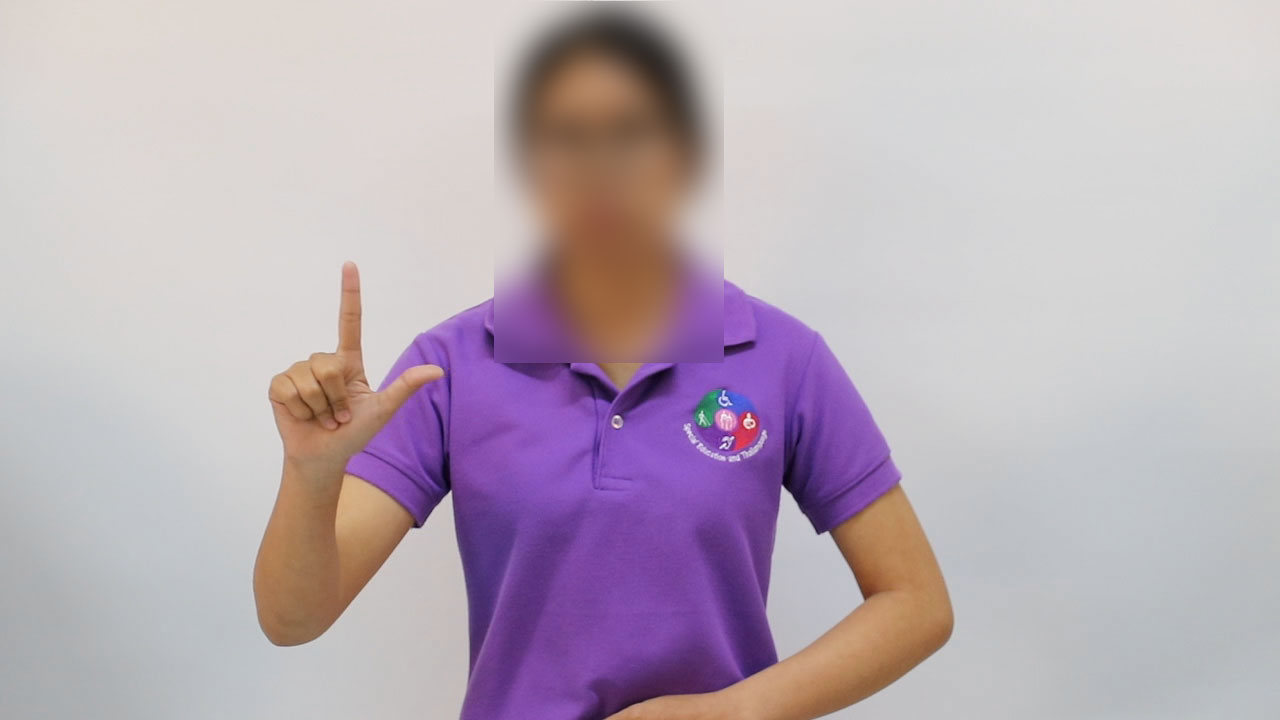lor: (257, 254, 454, 469)
